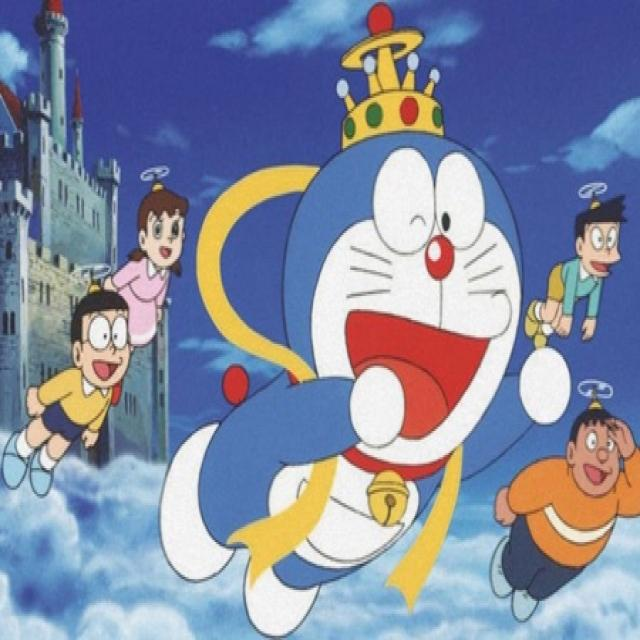doraemon: (274, 131, 530, 555)
jaian: (550, 387, 638, 514)
nobita: (54, 272, 134, 409)
shizuka: (124, 172, 195, 283)
suneo: (570, 185, 624, 285)
